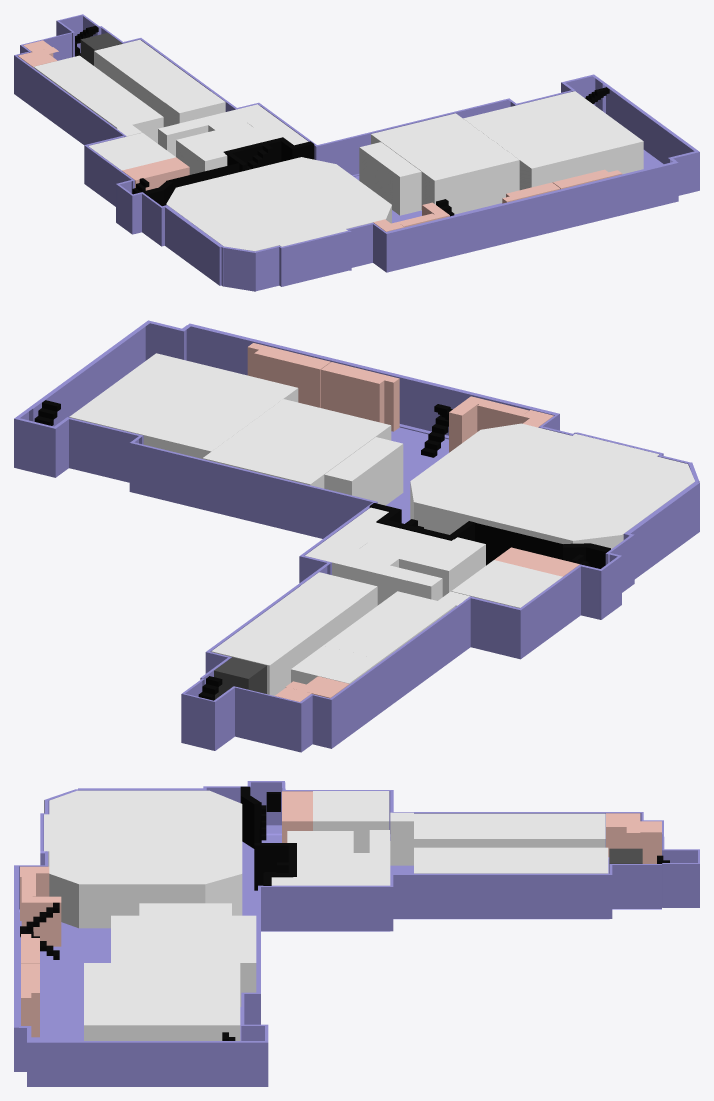
The picture shows the model from 3 angles, top to bottom: view 1: azimuth 30°, elevation 25°; view 2: azimuth 150°, elevation 25°; view 3: azimuth 270°, elevation 25°; orthographic projection. The views are drawn at different scales.
Parts seen in each view (by area): view 1: object, 131, 133, 132, 機械室, ワーキングスペース, プレゼンテーションスペース, 情報科学研究所, 1301, 談話室, 1307, 1303 (+16 smaller); view 2: object, 131, 133, 132, ワーキングスペース, 男子トイレ_1_3_4, 機械室, 情報科学研究所, プレゼンテーションスペース, 女子トイレ_1_3_4, 談話室, 1306 (+16 smaller); view 3: object, 131, 133, 132, プレゼンテーションスペース, ワーキングスペース, 談話室, 情報科学研究所, 男子トイレ_1_3_3, 湯沸室, 女子トイレ_1_3_4, 男子トイレ_1_3_2 (+20 smaller).
Boxes of the visible parts, x1,y1,x2,y2 form: object: (14,14,699,291); 131: (166,157,391,251); 133: (463,91,643,190); 132: (371,113,519,214); 機械室: (359,142,421,215); ワーキングスペース: (176,122,282,174); プレゼンテーションスペース: (88,132,175,170); 情報科学研究所: (178,104,279,137); 1301: (165,91,225,126); 談話室: (33,55,104,85); 1307: (103,106,163,143); 1303: (136,70,196,107); object: (14,320,699,752); 131: (410,423,694,549); 133: (69,353,298,458); 132: (202,399,391,488); ワーキングスペース: (353,522,485,596); 男子トイレ_1_3_4: (321,362,399,431); 機械室: (324,437,403,505); 情報科学研究所: (305,534,417,605); プレゼンテーションスペース: (451,560,562,608); 女子トイレ_1_3_4: (247,343,330,407); 談話室: (291,645,381,684); 1306: (211,638,287,695); object: (14,781,699,1086); 131: (44,790,242,928); 133: (84,963,240,1040); 132: (111,915,256,1006); プレゼンテーションスペース: (313,791,389,852); ワーキングスペース: (287,831,353,877); 談話室: (547,813,605,847); 情報科学研究所: (337,841,390,885); 男子トイレ_1_3_3: (21,877,61,946); 湯沸室: (390,812,413,865); 女子トイレ_1_3_4: (21,964,39,1037); 男子トイレ_1_3_2: (606,813,640,857).
Bounding box in the file's own units: 2.08 × 0.1736 × 2.31.
